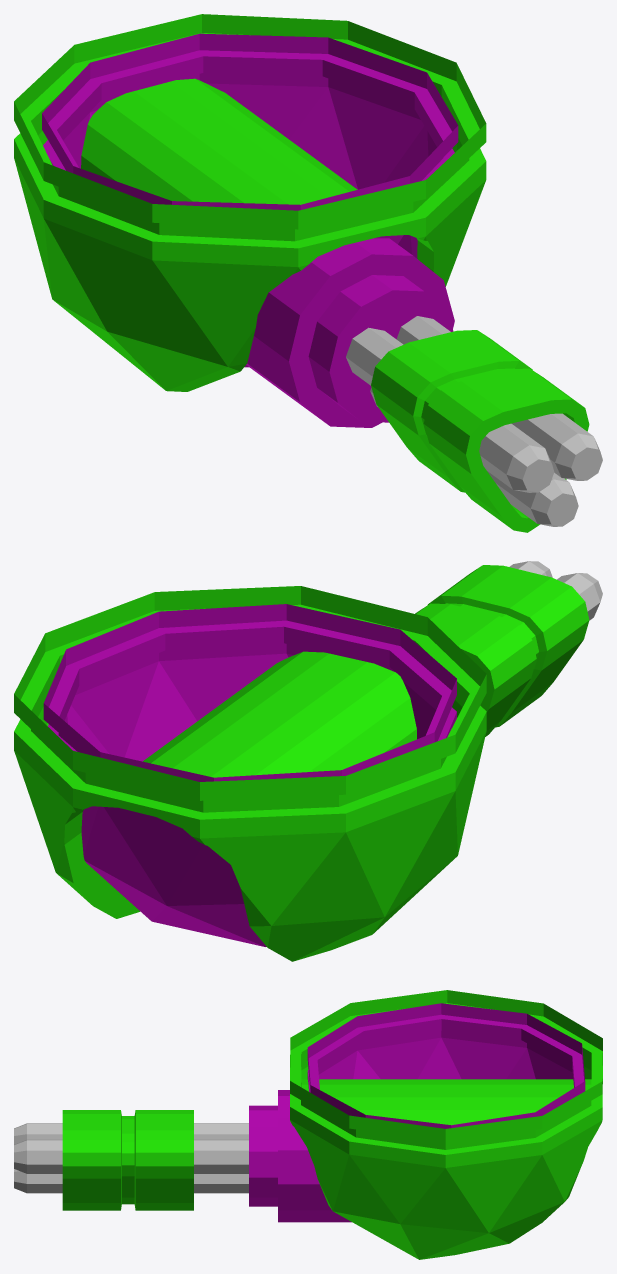
File: GatlingEnemy_Gun.fbx
3 renders of one model, top to bottom at view 1: azimuth 30°, elevation 25°; view 2: azimuth 150°, elevation 25°; view 3: azimuth 270°, elevation 25°, orthographic. The views are drawn at different scales.
Visible parts, largest first — view 1: outside_sphere, inside_sphere, barrel_base, hold, barrel_sides, barrel_main; view 2: outside_sphere, inside_sphere, hold, barrel_sides; view 3: outside_sphere, inside_sphere, hold, barrel_base, barrel_sides, barrel_main.
Boxes of the visible parts, x1,y1,x2,y2 form: outside_sphere: (14, 14, 486, 391); inside_sphere: (42, 33, 458, 367); barrel_base: (246, 238, 454, 427); hold: (371, 330, 589, 532); barrel_sides: (346, 316, 602, 492); barrel_main: (370, 387, 578, 526); outside_sphere: (14, 586, 486, 961); inside_sphere: (43, 604, 456, 946); hold: (415, 565, 589, 736); barrel_sides: (509, 561, 602, 620); outside_sphere: (290, 990, 602, 1259); inside_sphere: (307, 1003, 585, 1128); hold: (62, 1110, 193, 1210); barrel_base: (249, 1090, 351, 1222); barrel_sides: (14, 1123, 248, 1173); barrel_main: (14, 1169, 248, 1193).
Size of the model in its own units: 275 by 493 by 157.
